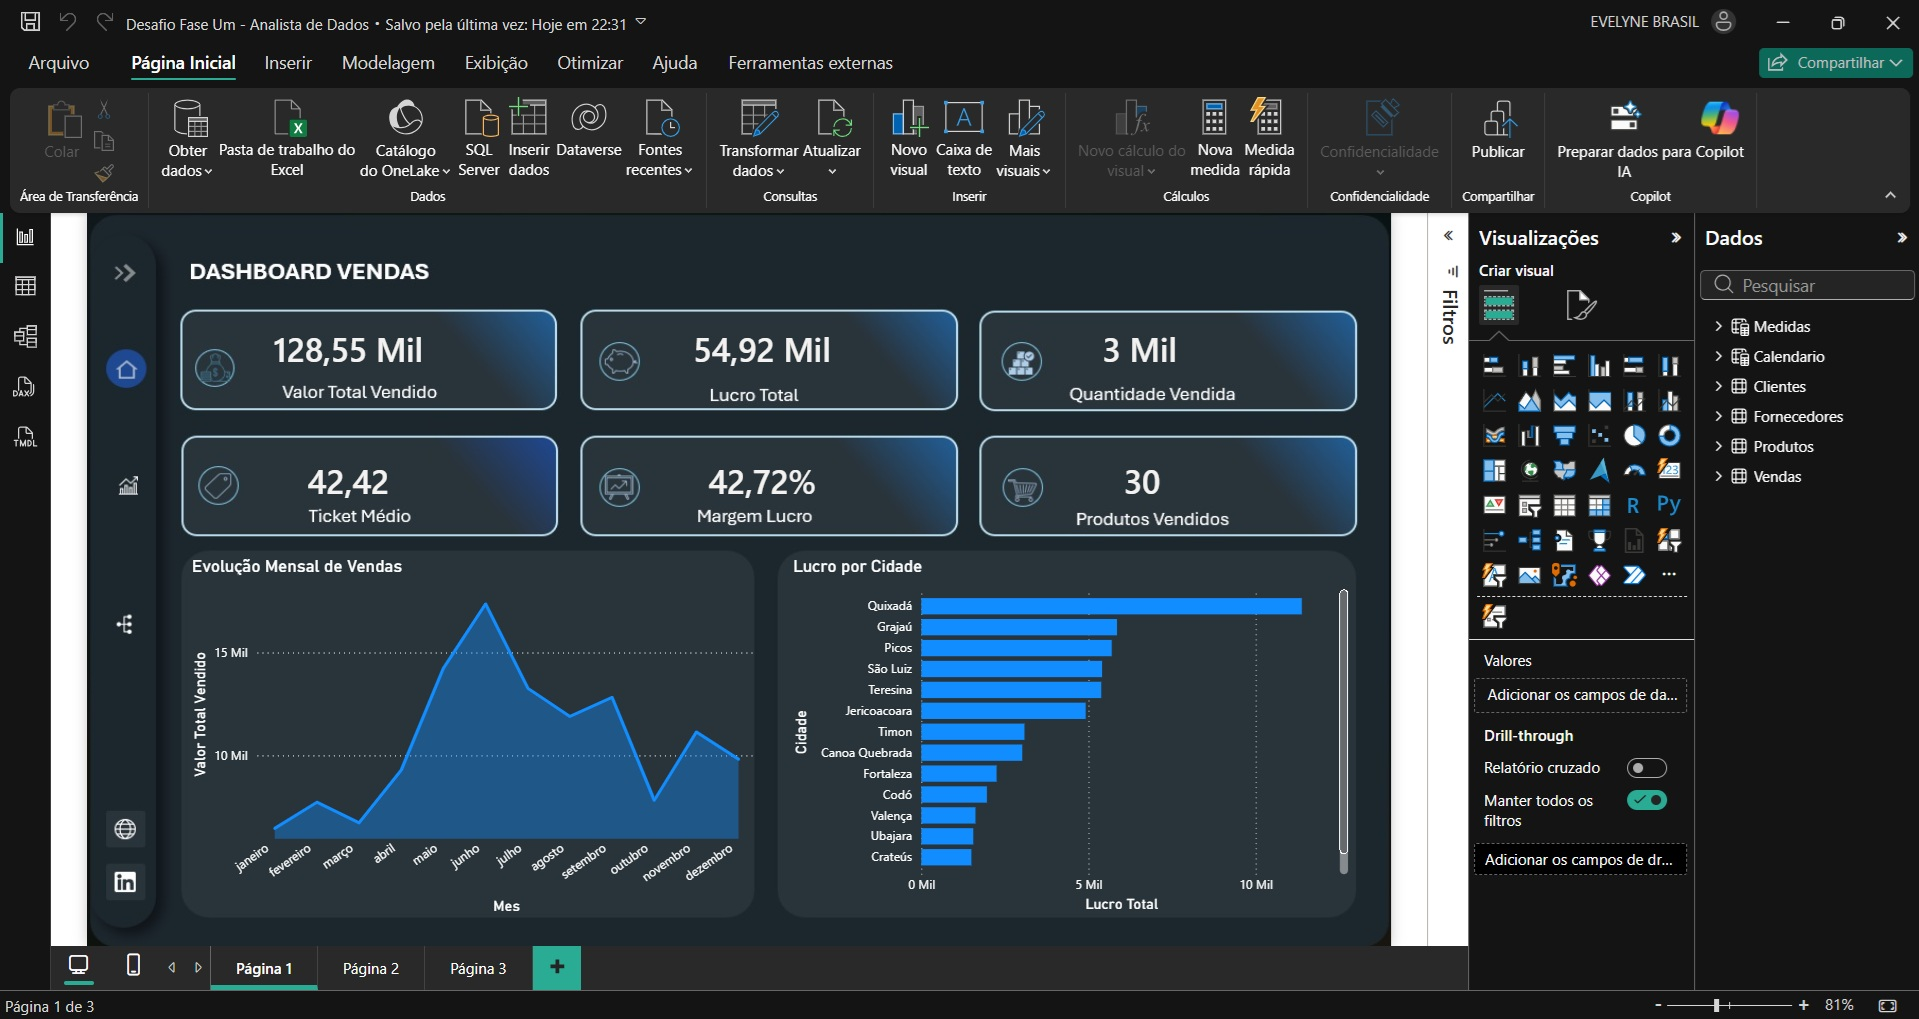

What the dashboard file says about the page in this screenshot:
{"tool":"powerbi","page":{"name":"Página 1","canvas":[1280,720],"ordinal":0},"visuals":[{"type":"lineChart","title":"Evolução Mensal de Vendas","fields":{"Category":["Calendario.Mes"],"Y":["Medidas.Valor Total Vendido"]},"box":[98.2,336.2,563.2,357.1],"z":0},{"type":"clusteredBarChart","title":"Lucro por Cidade","fields":{"Category":["Clientes.Cidade"],"Y":["Medidas.Lucro Total"]},"box":[688.3,336.2,554.6,355.8],"z":1000},{"type":"cardVisual","title":"Receita","fields":{"Data":["Medidas.Valor Total Vendido"]},"box":[132.7,88.5,248.2,86],"z":2000},{"type":"cardVisual","title":"Receita","fields":{"Data":["Medidas.Lucro Total"]},"box":[538.3,88.5,248.2,86],"z":3000},{"type":"cardVisual","title":"Receita","fields":{"Data":["Medidas.Quantidade Vendida"]},"box":[909.4,88.5,248.2,86],"z":4000},{"type":"cardVisual","title":"Receita","fields":{"Data":["Medidas.Ticket Médio"]},"box":[132.7,218.7,248.2,86],"z":5000},{"type":"cardVisual","title":"Receita","fields":{"Data":["Medidas.Margem Lucro"]},"box":[538.3,218.7,248.2,86],"z":6000},{"type":"cardVisual","title":"Receita","fields":{"Data":["Medidas.Produtos Vendidos"]},"box":[855.3,218.7,361.3,86],"z":7000},{"type":"actionButton","box":[21.7,636.2,33.3,31.9],"z":8000},{"type":"actionButton","box":[11.6,589.9,44.9,31.9],"z":9000},{"type":"actionButton","box":[17.2,233.5,44.2,59],"z":10000},{"type":"actionButton","box":[12.3,383.4,44.2,59],"z":11000}]}

Visuals, with their boxes on the page's 1280x720 design canvas (x1, y1, x2, y2). These are canvas units, not pixel positions in the 1919x1019 screenshot, which may show the page scaled, cropped or inside an application window:
"Evolução Mensal de Vendas" lineChart: x1=98 y1=336 x2=661 y2=693
"Lucro por Cidade" clusteredBarChart: x1=688 y1=336 x2=1243 y2=692
"Receita" cardVisual: x1=133 y1=88 x2=381 y2=174
"Receita" cardVisual: x1=538 y1=88 x2=786 y2=174
"Receita" cardVisual: x1=909 y1=88 x2=1158 y2=174
"Receita" cardVisual: x1=133 y1=219 x2=381 y2=305
"Receita" cardVisual: x1=538 y1=219 x2=786 y2=305
"Receita" cardVisual: x1=855 y1=219 x2=1217 y2=305
actionButton: x1=22 y1=636 x2=55 y2=668
actionButton: x1=12 y1=590 x2=56 y2=622
actionButton: x1=17 y1=234 x2=61 y2=292
actionButton: x1=12 y1=383 x2=56 y2=442
